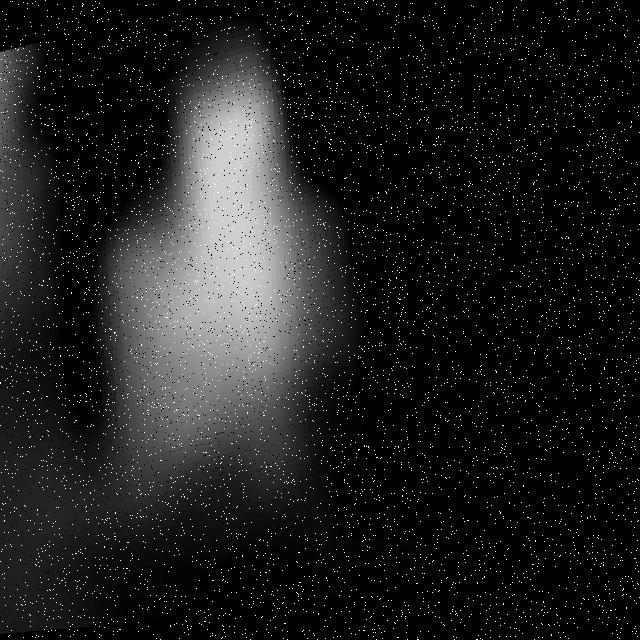person: (41, 8, 428, 582), (1, 41, 86, 399)
